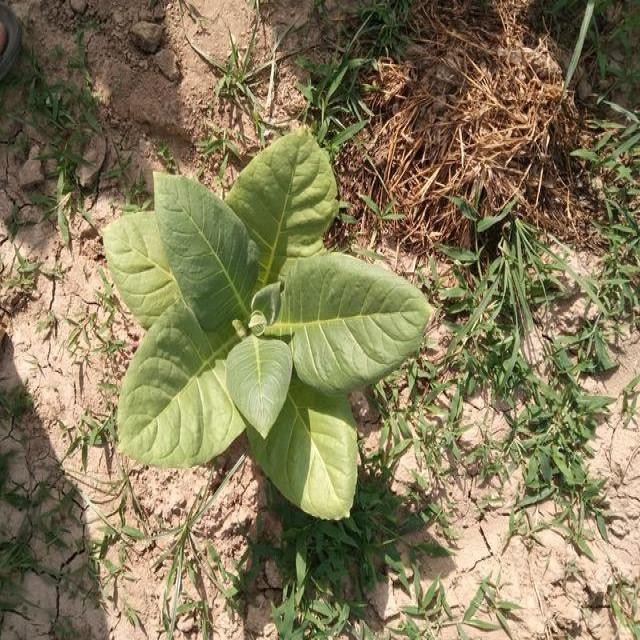crop: (102, 119, 434, 529)
